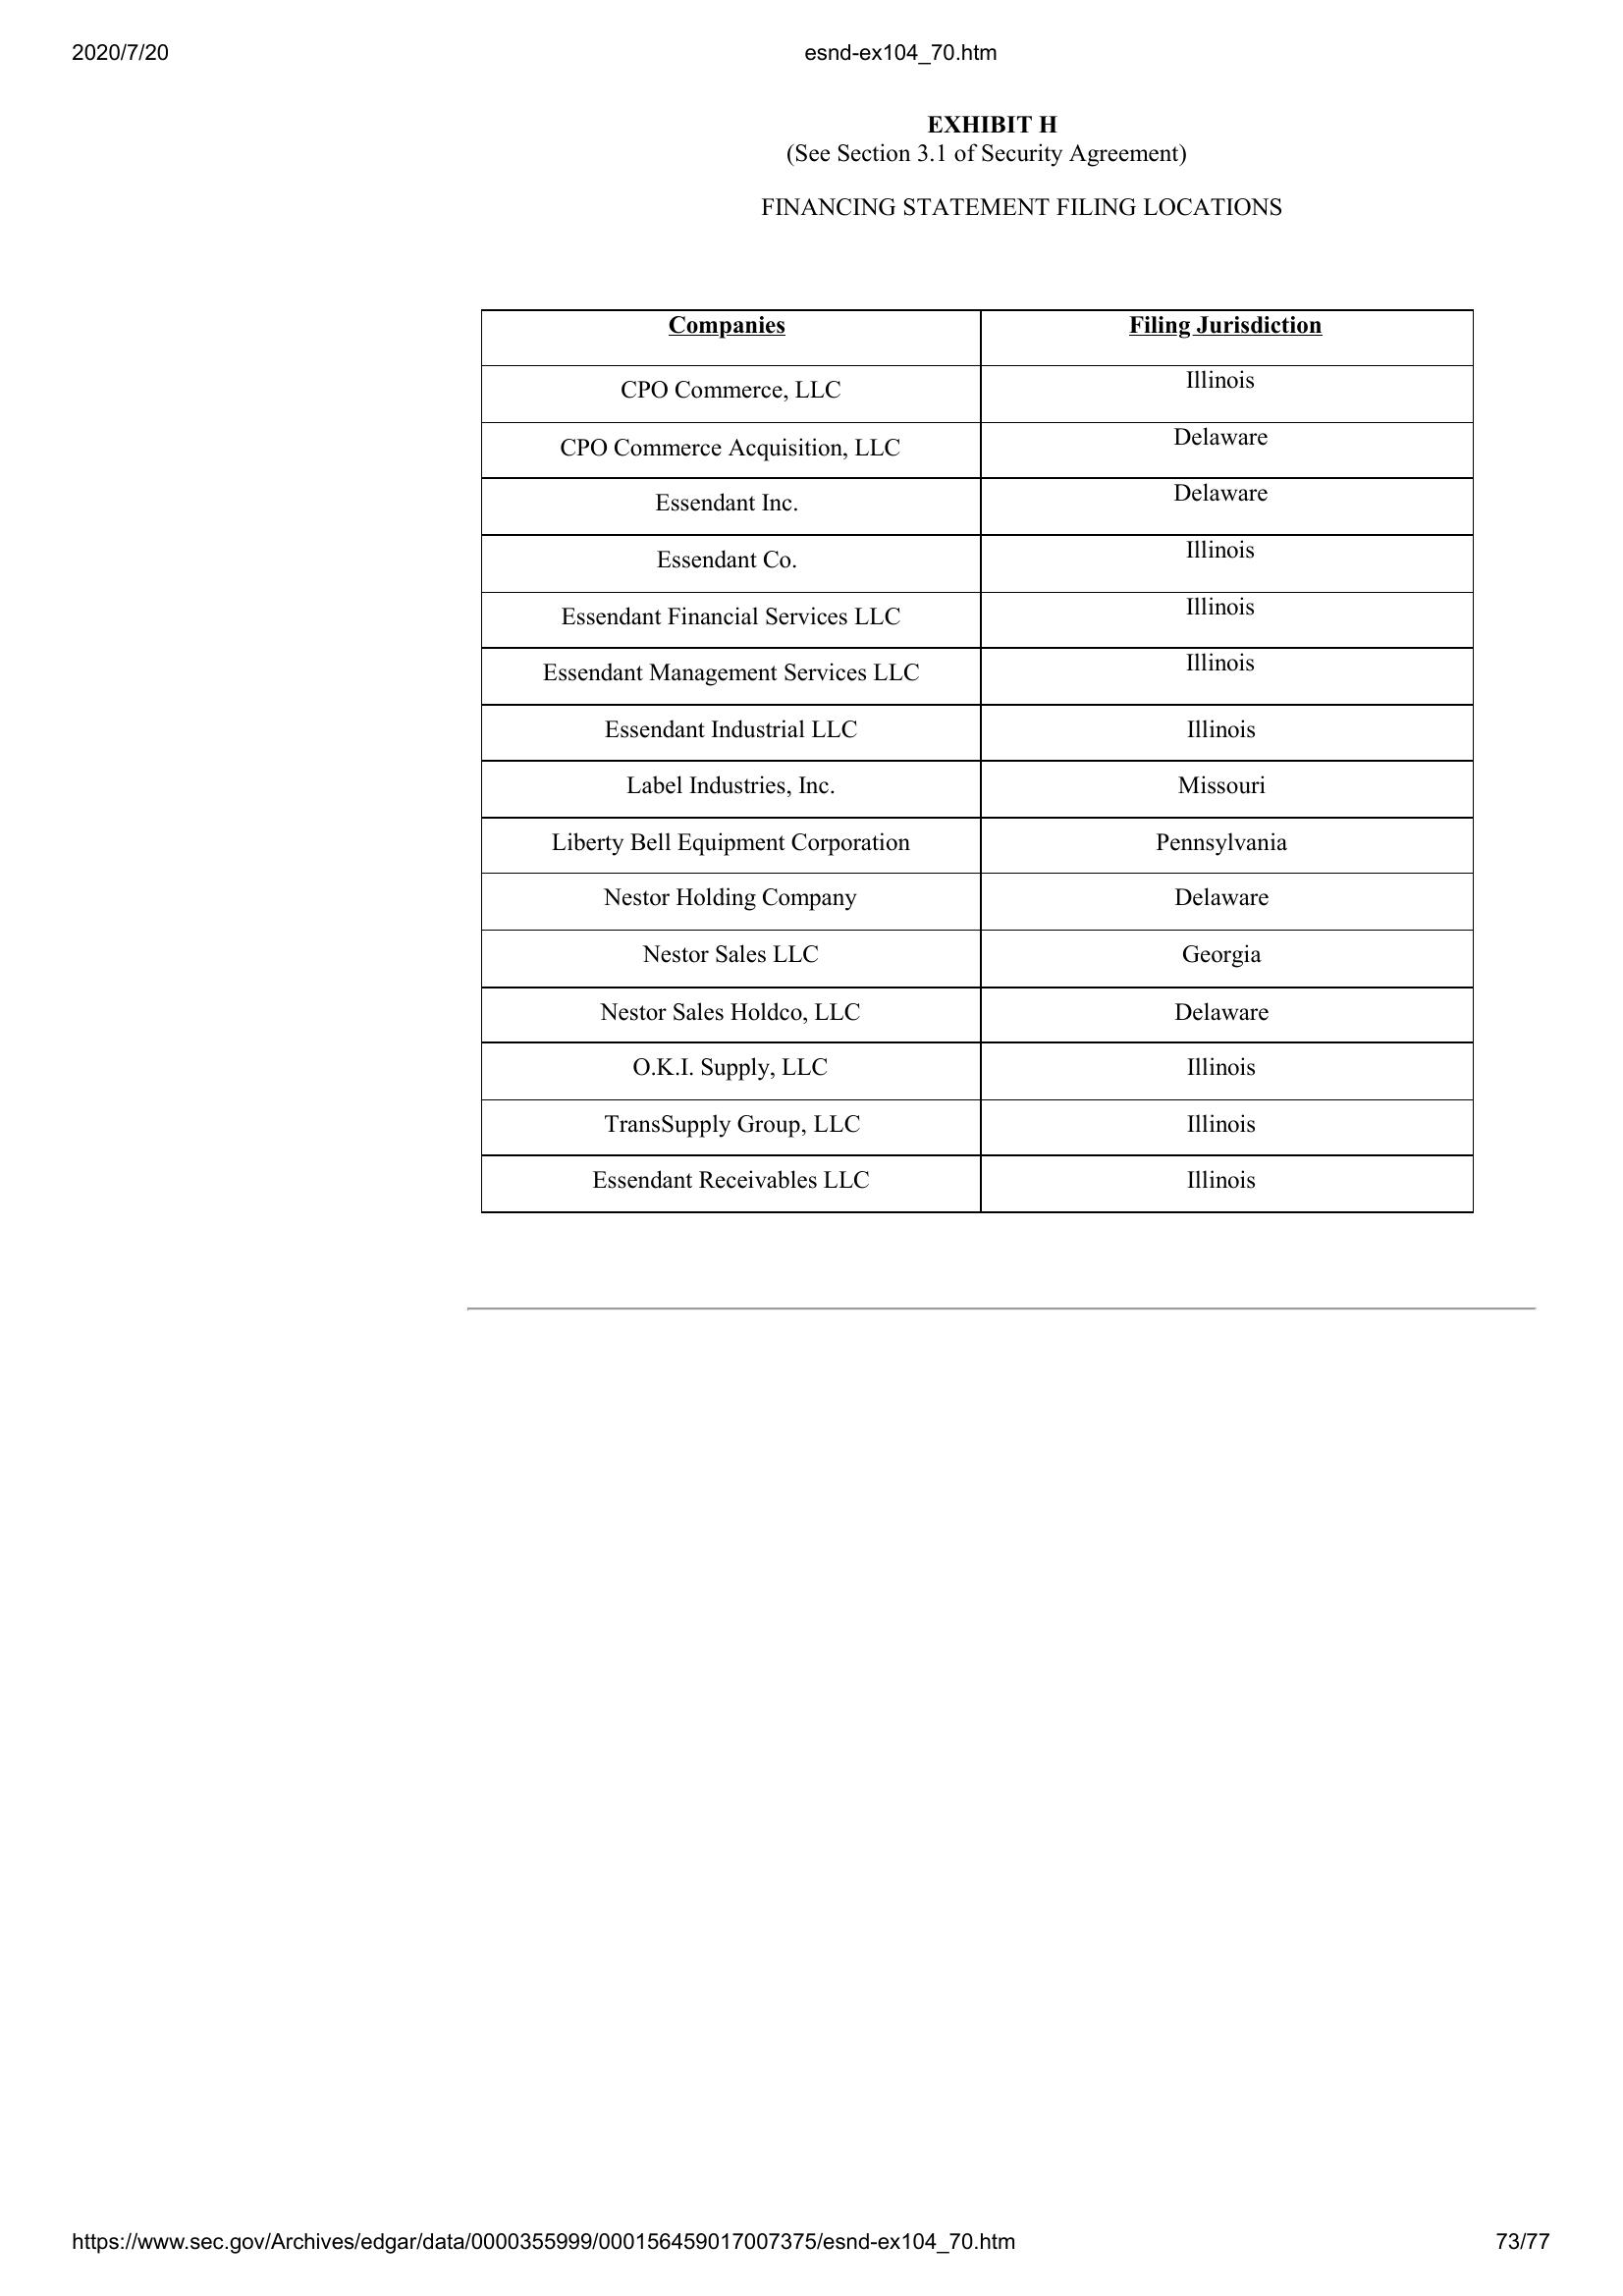table: (471, 302, 1484, 1223)
